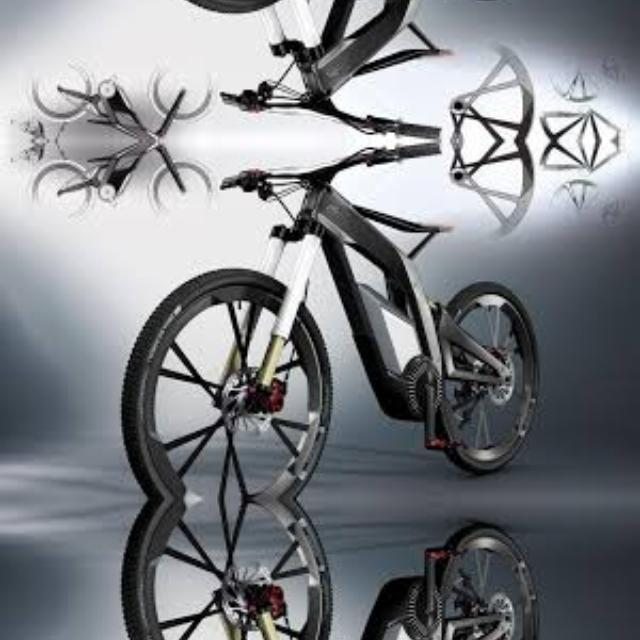obstacle: (116, 140, 564, 498), (116, 499, 564, 640), (116, 0, 564, 140)
